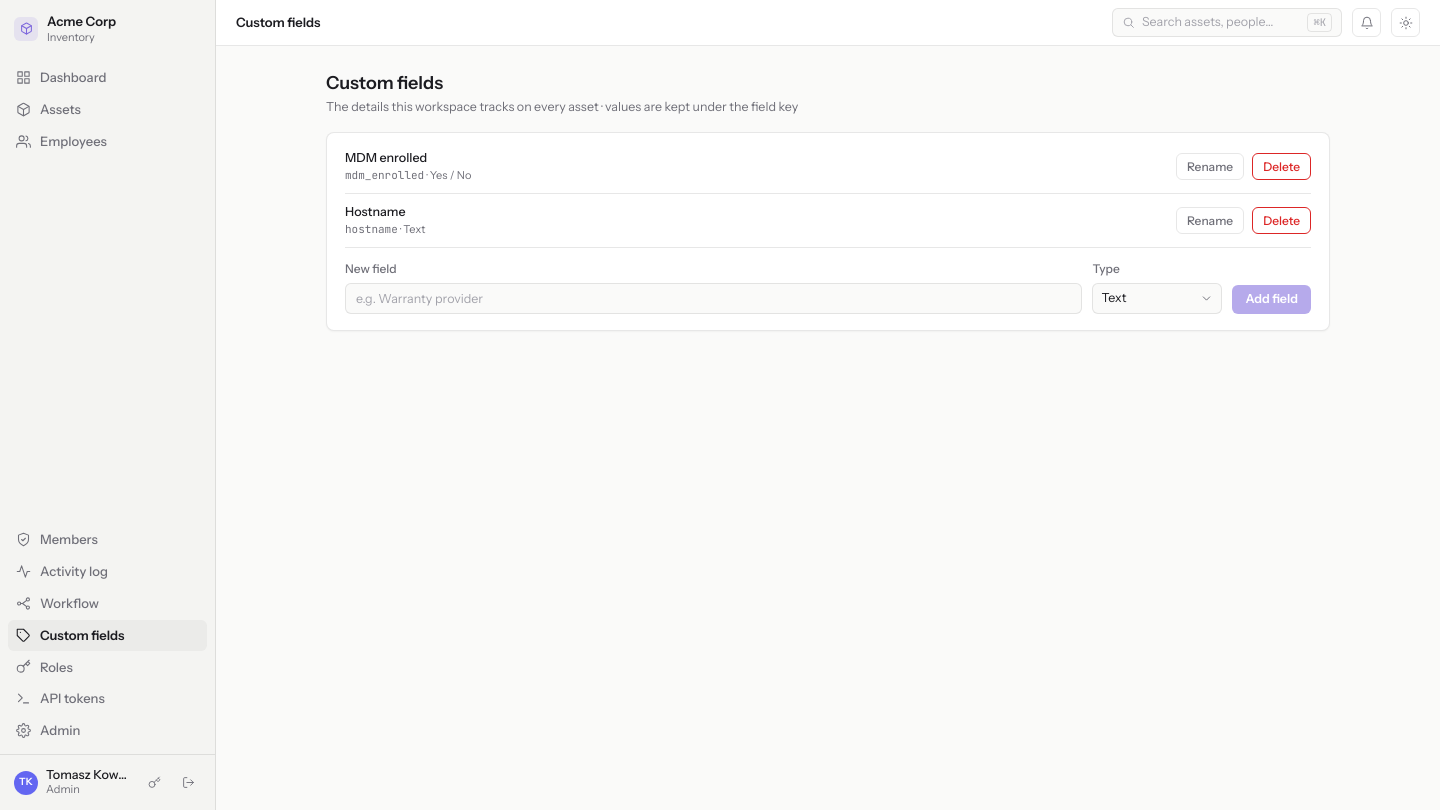
Scenario: the definitions list › adds a field and says which key values will hang off
Type "Warranty provider" into the field labelled "New field" at [714, 298], box left=345, top=283, right=1082, bottom=314
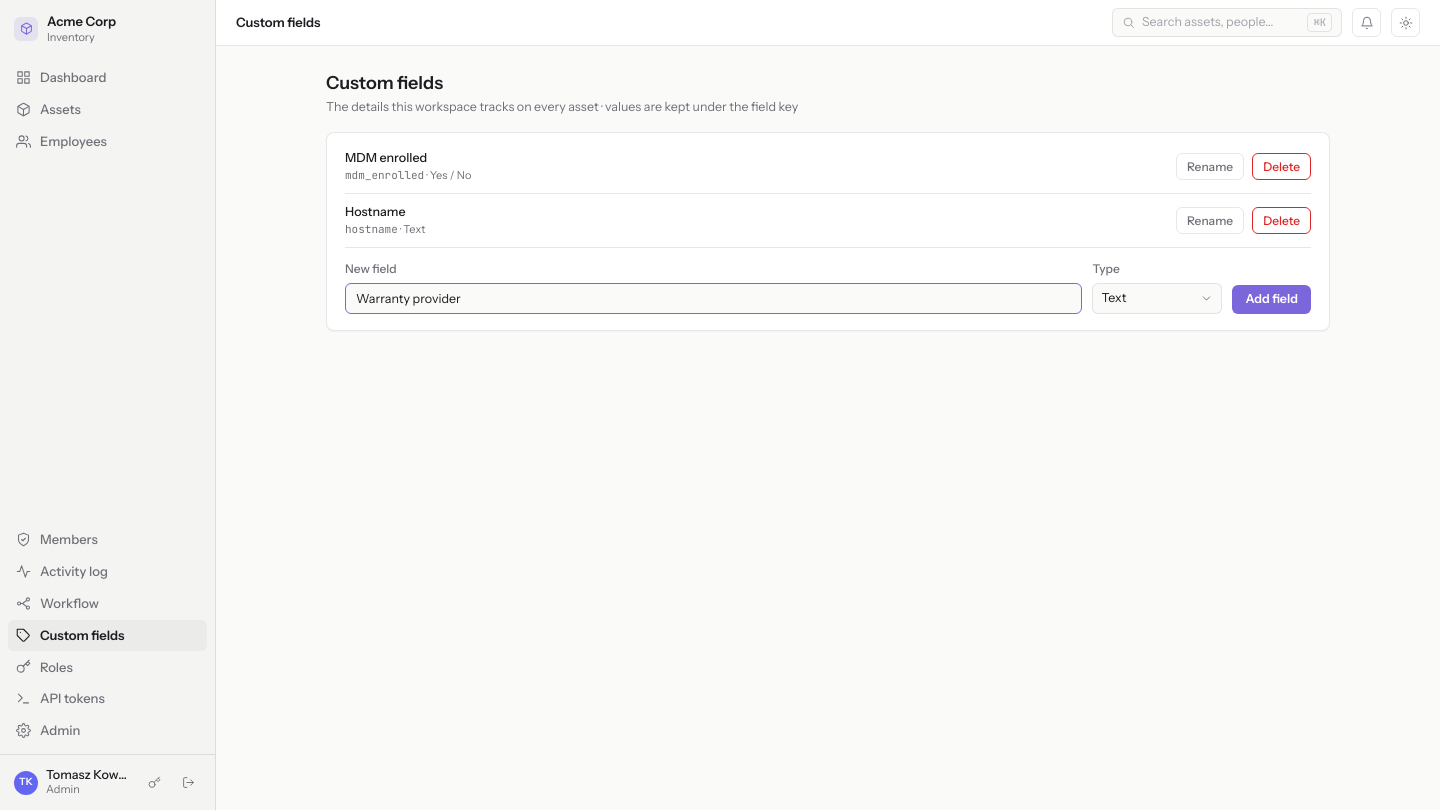
Click the dropdown named "type" at [1158, 298], box left=1092, top=283, right=1222, bottom=314
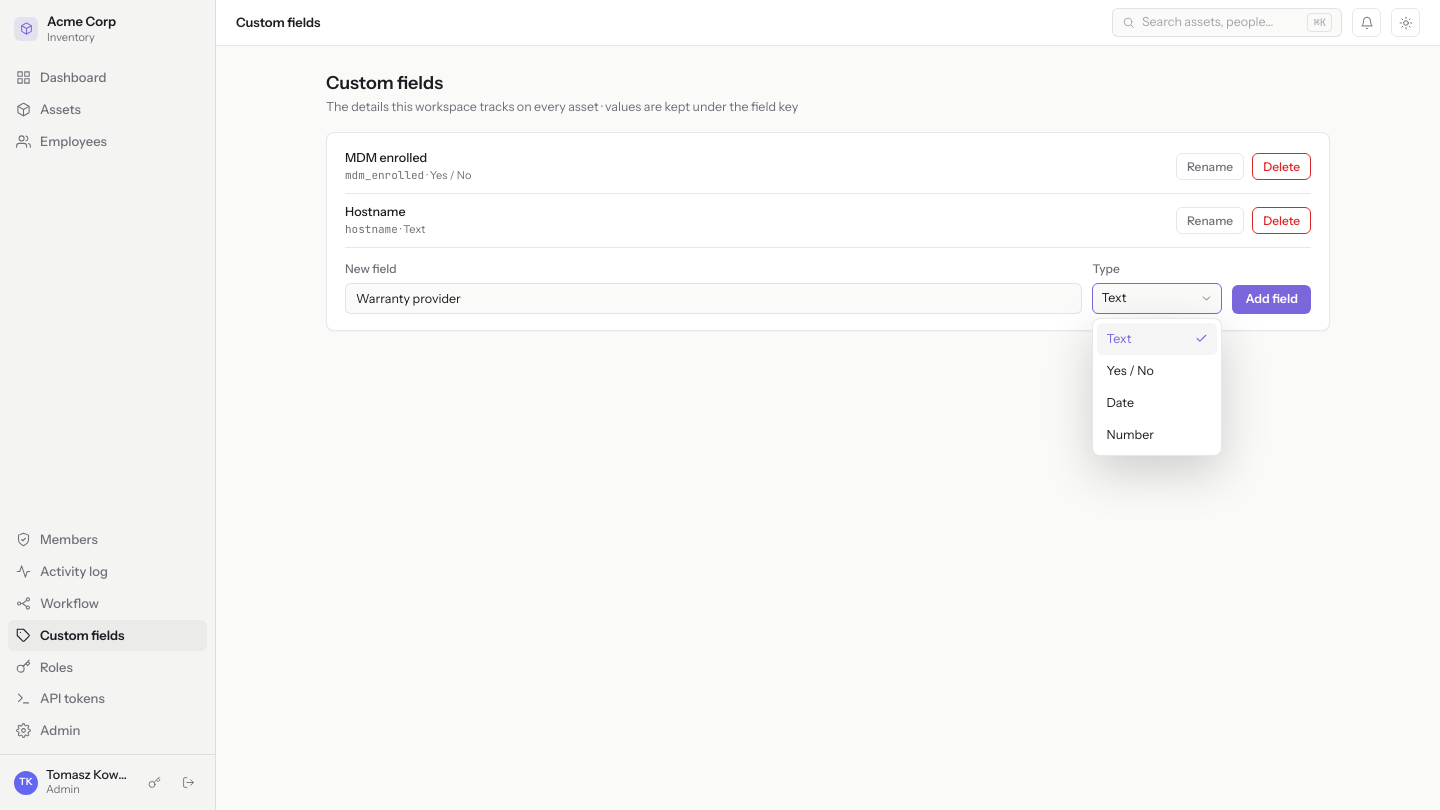
Click the option "Text" at [1158, 339], box left=1098, top=323, right=1218, bottom=355
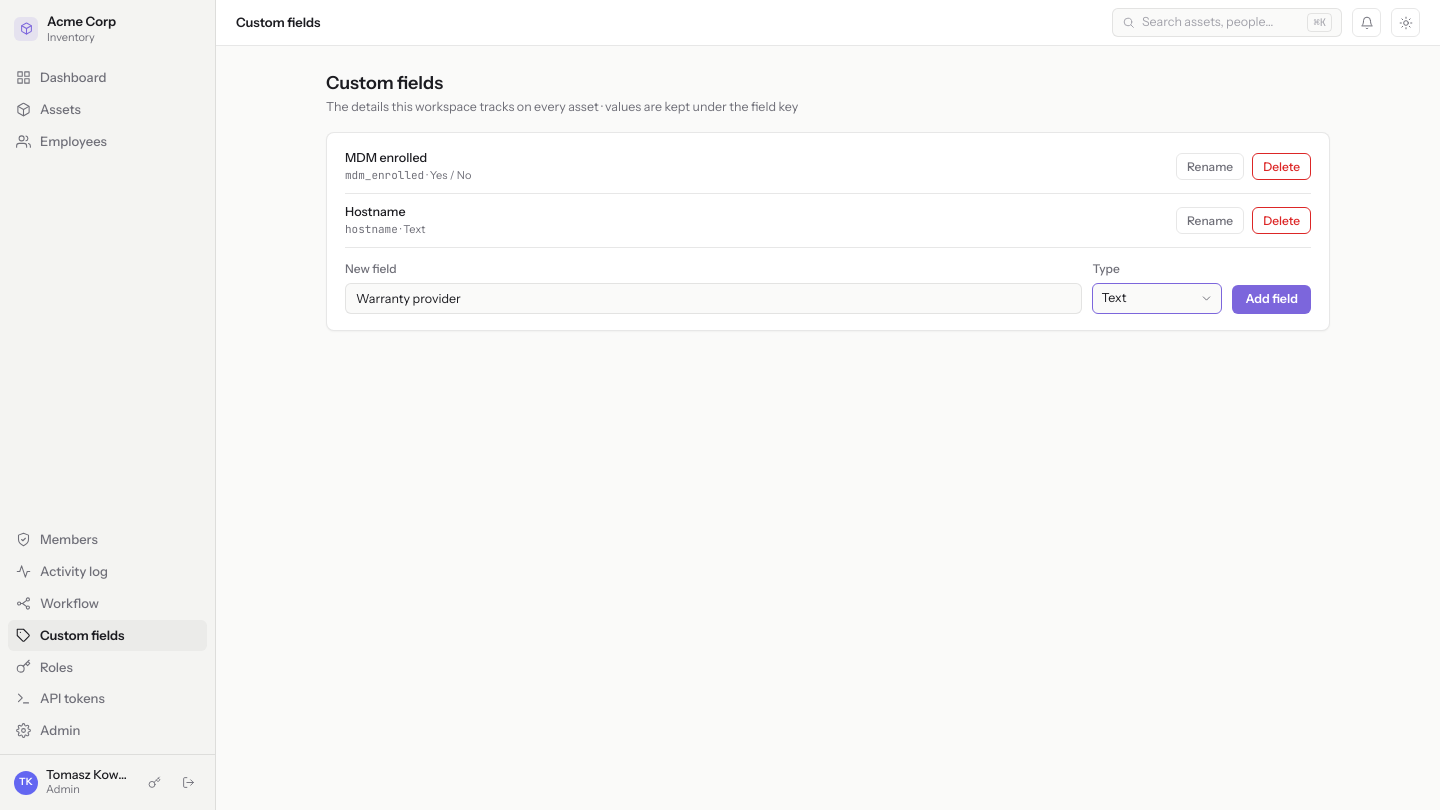
Click the button "Add field" at [1272, 299], box left=1232, top=285, right=1311, bottom=314
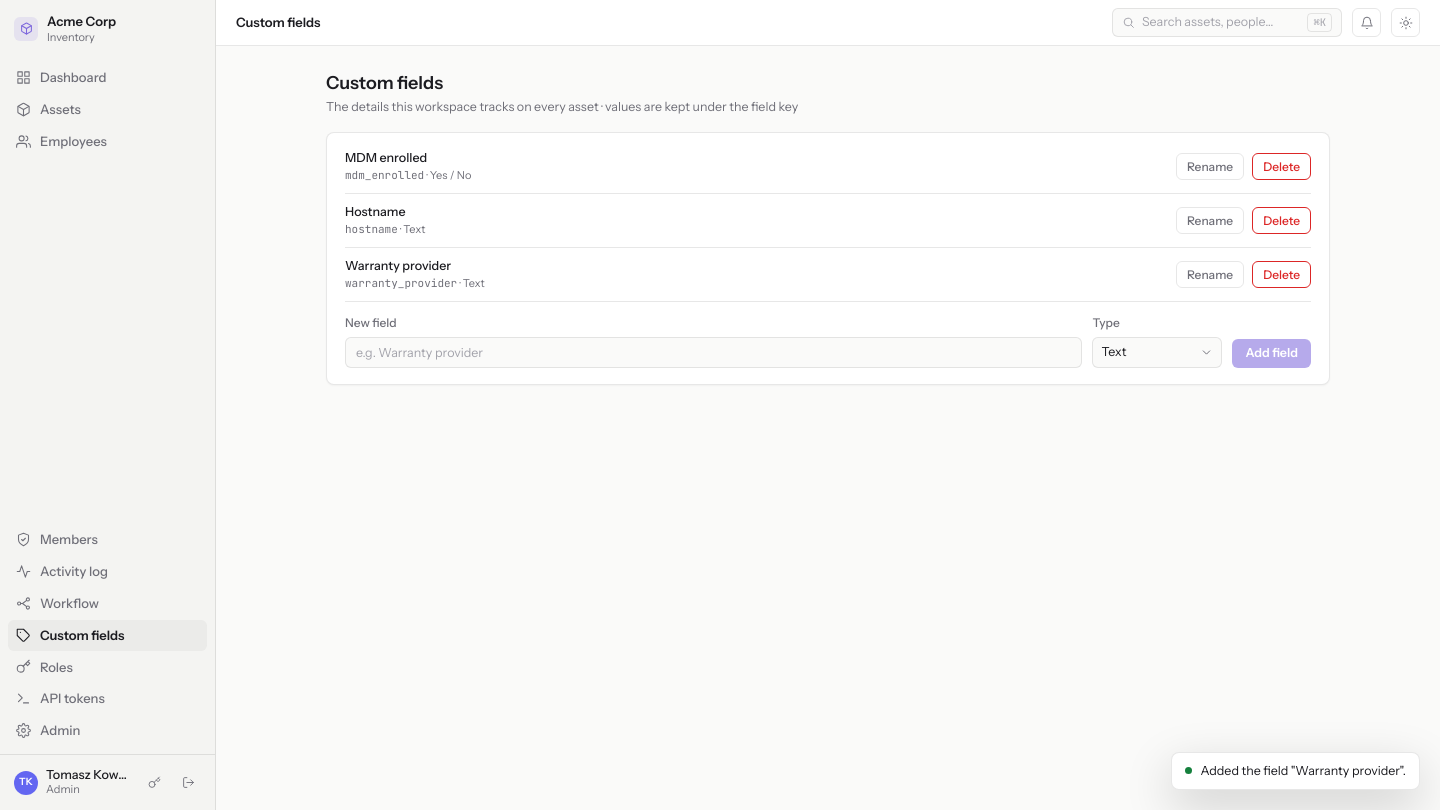
Now the text "warranty_provider" is shown, box left=345, top=276, right=457, bottom=290
